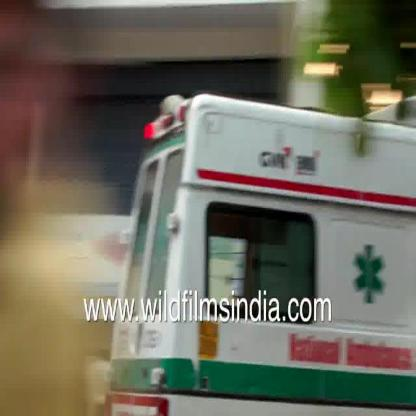priority: (119, 84, 416, 292), (93, 323, 416, 415)
